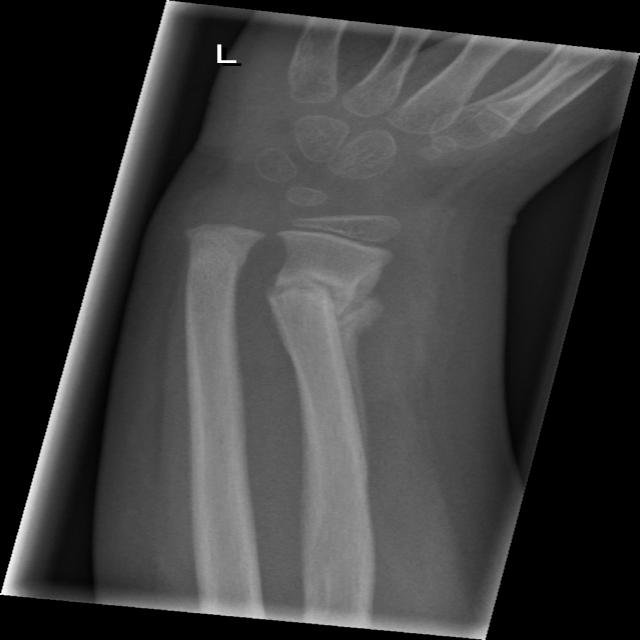radius fracture: (255, 253, 401, 357)
